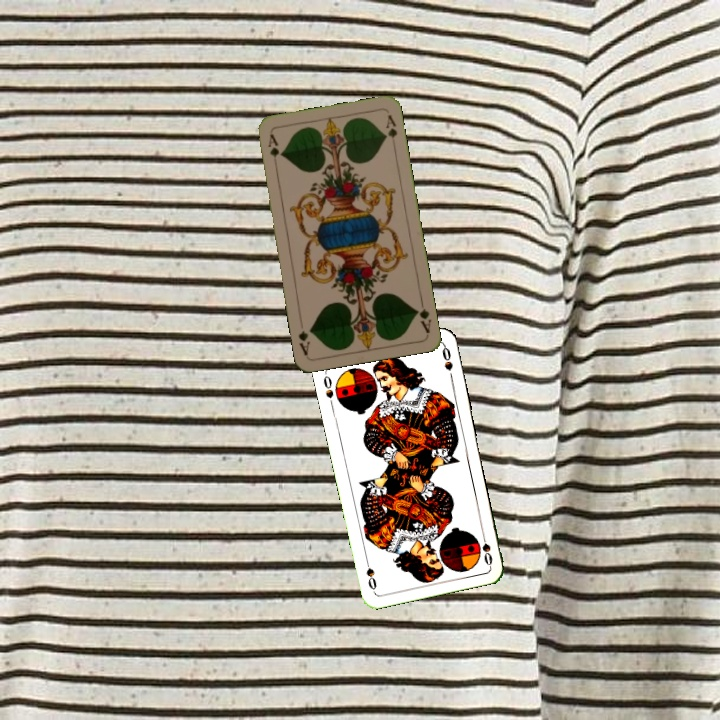GA: (411, 295, 434, 336), (264, 130, 282, 170)
SO: (478, 527, 495, 568), (319, 369, 336, 401)
